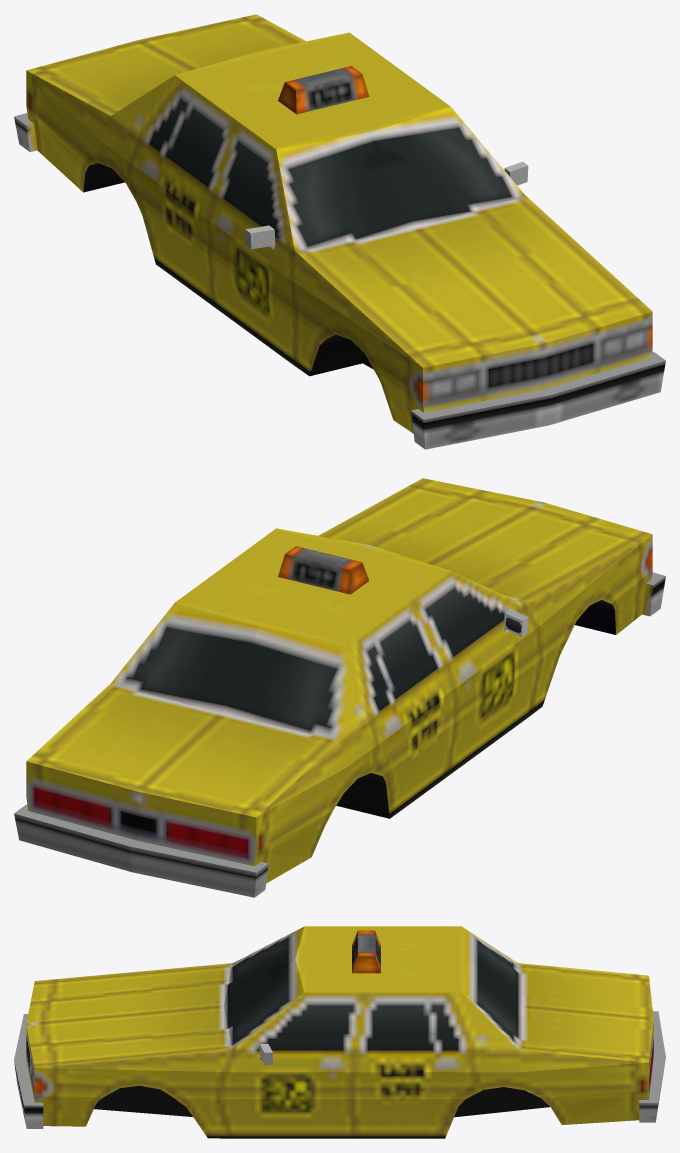
Rendered from Car5_Taxi.obj.
3 views of the same model, one above another, from view 1: azimuth 30°, elevation 25°; view 2: azimuth 150°, elevation 25°; view 3: azimuth 270°, elevation 25° (orthographic). The views are drawn at different scales.
Parts seen in each view (by area): view 1: Car5_Taxi; view 2: Car5_Taxi; view 3: Car5_Taxi.
Boxes of the visible parts, x1,y1,x2,y2 form: Car5_Taxi: [14, 14, 665, 449]; Car5_Taxi: [14, 478, 665, 897]; Car5_Taxi: [14, 926, 665, 1138].
Size of the model in its own units: 2.78 by 1.87 by 7.3.
1 material, 1 textured.
